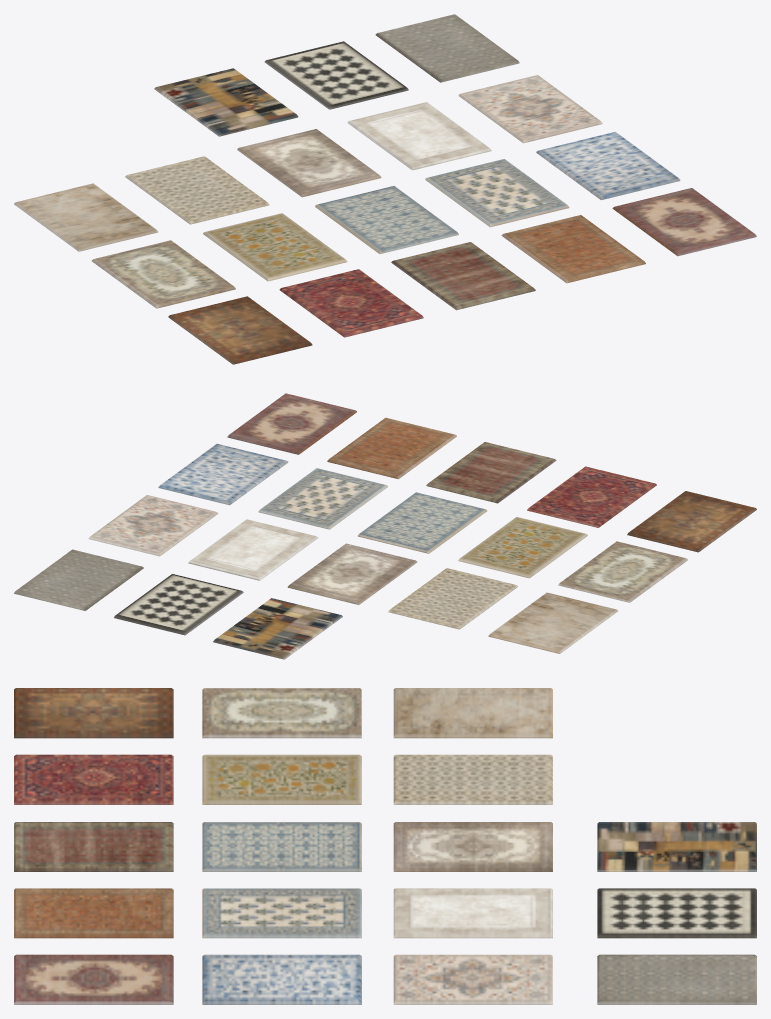
Rendered from rugs.glb.
The picture shows the model from 3 angles, top to bottom: view 1: azimuth 30°, elevation 25°; view 2: azimuth 150°, elevation 25°; view 3: azimuth 270°, elevation 25°; orthographic projection. The views are drawn at different scales.
Parts seen in each view (by area): view 1: Vintage Rugs_001, Vintage Rugs_007, Vintage Rugs_011, Vintage Rugs_005, Vintage Rugs_015, Vintage Rugs_004, Vintage Rugs_014, Vintage Rugs_017, Vintage Rugs_018, Vintage Rugs_003, Vintage Rugs_006, Vintage Rugs_008 (+6 smaller); view 2: Vintage Rugs_009, Vintage Rugs_010, Vintage Rugs_002, Vintage Rugs_003, Vintage Rugs_011, Vintage Rugs_013, Vintage Rugs_016, Vintage Rugs_001, Vintage Rugs_004, Vintage Rugs_005, Vintage Rugs_007, Vintage Rugs_008 (+6 smaller); view 3: Vintage Rugs_002, Vintage Rugs_003, Vintage Rugs_007, Vintage Rugs_008, Vintage Rugs_016, Vintage Rugs_012, Vintage Rugs_013, Vintage Rugs_001, Vintage Rugs_005, Vintage Rugs_011, Vintage Rugs_015, Vintage Rugs_018 (+6 smaller).
Boxes of the visible parts, bbox=[...] form: Vintage Rugs_001: bbox=[279, 269, 423, 337]; Vintage Rugs_007: bbox=[91, 240, 235, 308]; Vintage Rugs_011: bbox=[125, 156, 269, 224]; Vintage Rugs_005: bbox=[612, 188, 756, 256]; Vintage Rugs_015: bbox=[458, 75, 602, 143]; Vintage Rugs_004: bbox=[391, 242, 535, 310]; Vintage Rugs_014: bbox=[237, 129, 381, 197]; Vintage Rugs_017: bbox=[154, 68, 298, 136]; Vintage Rugs_018: bbox=[375, 14, 519, 82]; Vintage Rugs_003: bbox=[501, 215, 645, 283]; Vintage Rugs_006: bbox=[203, 213, 347, 281]; Vintage Rugs_008: bbox=[425, 159, 569, 227]; Vintage Rugs_009: bbox=[357, 492, 487, 553]; Vintage Rugs_010: bbox=[158, 444, 288, 505]; Vintage Rugs_002: bbox=[627, 491, 756, 552]; Vintage Rugs_003: bbox=[327, 417, 456, 479]; Vintage Rugs_011: bbox=[388, 568, 517, 629]; Vintage Rugs_013: bbox=[188, 519, 318, 580]; Vintage Rugs_016: bbox=[114, 574, 243, 635]; Vintage Rugs_001: bbox=[527, 466, 656, 527]; Vintage Rugs_004: bbox=[426, 442, 556, 503]; Vintage Rugs_005: bbox=[227, 393, 356, 454]; Vintage Rugs_007: bbox=[558, 541, 687, 602]; Vintage Rugs_008: bbox=[258, 468, 387, 529]; Vintage Rugs_002: bbox=[14, 688, 173, 738]; Vintage Rugs_003: bbox=[14, 888, 173, 938]; Vintage Rugs_007: bbox=[202, 688, 361, 738]; Vintage Rugs_008: bbox=[202, 888, 361, 938]; Vintage Rugs_016: bbox=[597, 888, 756, 938]; Vintage Rugs_012: bbox=[393, 688, 552, 738]; Vintage Rugs_013: bbox=[393, 888, 552, 938]; Vintage Rugs_001: bbox=[14, 754, 173, 804]; Vintage Rugs_005: bbox=[14, 954, 173, 1004]; Vintage Rugs_011: bbox=[393, 754, 552, 804]; Vintage Rugs_015: bbox=[393, 954, 552, 1004]; Vintage Rugs_018: bbox=[597, 954, 756, 1004].
Size of the model in its own units: 13.19 by 0.0597 by 13.17.
1 material, 1 textured.
